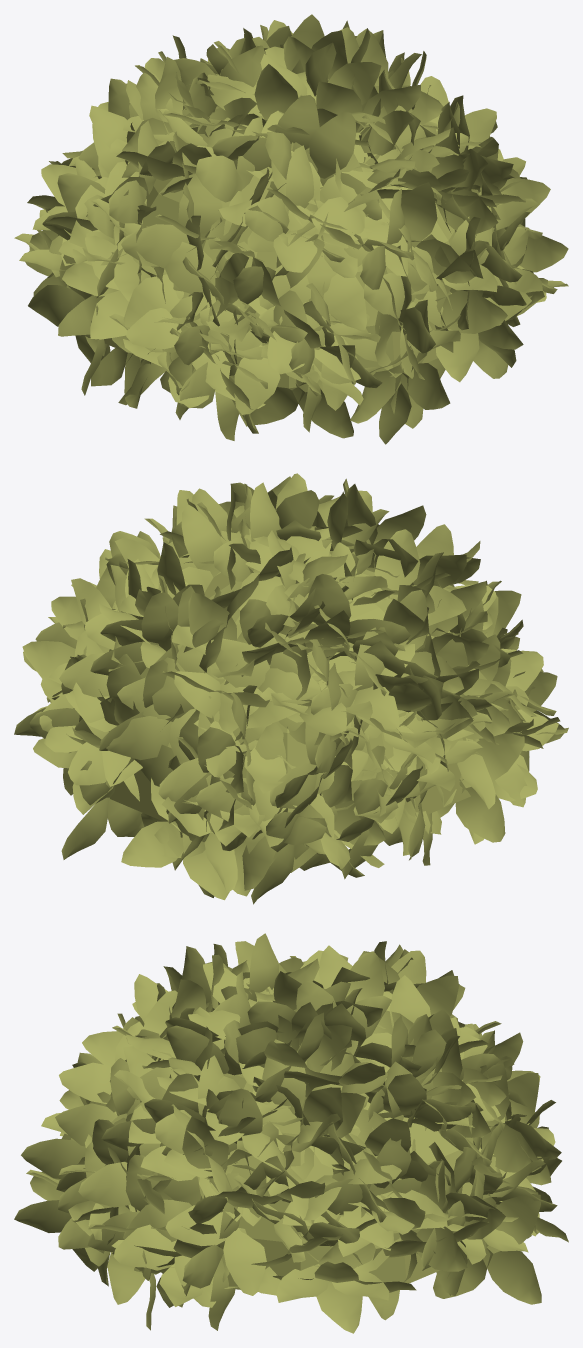
Rendered from bushLight.fbx.
3 renders of one model, top to bottom at view 1: azimuth 30°, elevation 25°; view 2: azimuth 150°, elevation 25°; view 3: azimuth 270°, elevation 25°, orthographic.
Parts seen in each view (by area): view 1: Bush, Bush|Leaf|Dupli|274, Bush|Leaf|Dupli|271, Bush|Leaf|Dupli|56, Bush|Leaf|Dupli|249, Bush|Leaf|Dupli|105, Bush|Leaf|Dupli|226, Bush|Leaf|Dupli|195, Bush|Leaf|Dupli|134, Bush|Leaf|Dupli|30, Bush|Leaf|Dupli|39, Bush|Leaf|Dupli|214 (+98 smaller); view 2: Bush, Bush|Leaf|Dupli|87, Bush|Leaf|Dupli|181, Bush|Leaf|Dupli|18, Bush|Leaf|Dupli|177, Bush|Leaf|Dupli|258, Bush|Leaf|Dupli|74, Bush|Leaf|Dupli|93, Bush|Leaf|Dupli|275, Bush|Leaf|Dupli|156, Bush|Leaf|Dupli|171, Bush|Leaf|Dupli|32 (+106 smaller); view 3: Bush, Bush|Leaf|Dupli|177, Bush|Leaf|Dupli|220, Bush|Leaf|Dupli|161, Bush|Leaf|Dupli|158, Bush|Leaf|Dupli|174, Bush|Leaf|Dupli|155, Bush|Leaf|Dupli|139, Bush|Leaf|Dupli|45, Bush|Leaf|Dupli|230, Bush|Leaf|Dupli|245, Bush|Leaf|Dupli|84 (+99 smaller).
Boxes of the visible parts, bbox=[...] form: Bush: bbox=[91, 107, 455, 388]; Bush|Leaf|Dupli|274: bbox=[259, 205, 384, 330]; Bush|Leaf|Dupli|271: bbox=[121, 174, 222, 291]; Bush|Leaf|Dupli|56: bbox=[255, 112, 381, 220]; Bush|Leaf|Dupli|249: bbox=[242, 331, 355, 438]; Bush|Leaf|Dupli|105: bbox=[379, 300, 450, 444]; Bush|Leaf|Dupli|226: bbox=[364, 233, 451, 378]; Bush|Leaf|Dupli|195: bbox=[245, 145, 314, 267]; Bush|Leaf|Dupli|134: bbox=[423, 234, 507, 378]; Bush|Leaf|Dupli|30: bbox=[199, 306, 308, 414]; Bush|Leaf|Dupli|39: bbox=[311, 167, 408, 276]; Bush|Leaf|Dupli|214: bbox=[401, 182, 474, 283]; Bush: bbox=[109, 569, 470, 830]; Bush|Leaf|Dupli|87: bbox=[121, 778, 229, 900]; Bush|Leaf|Dupli|181: bbox=[414, 732, 524, 842]; Bush|Leaf|Dupli|18: bbox=[106, 657, 194, 760]; Bush|Leaf|Dupli|177: bbox=[61, 760, 143, 859]; Bush|Leaf|Dupli|258: bbox=[211, 629, 317, 744]; Bush|Leaf|Dupli|74: bbox=[374, 529, 466, 625]; Bush|Leaf|Dupli|93: bbox=[90, 592, 178, 675]; Bush|Leaf|Dupli|275: bbox=[161, 504, 222, 598]; Bush|Leaf|Dupli|156: bbox=[298, 574, 410, 644]; Bush|Leaf|Dupli|171: bbox=[68, 682, 139, 801]; Bush|Leaf|Dupli|32: bbox=[177, 637, 320, 733]; Bush: bbox=[125, 1033, 498, 1289]; Bush|Leaf|Dupli|177: bbox=[433, 1194, 541, 1304]; Bush|Leaf|Dupli|220: bbox=[165, 1182, 266, 1295]; Bush|Leaf|Dupli|161: bbox=[182, 1186, 240, 1330]; Bush|Leaf|Dupli|158: bbox=[166, 1025, 278, 1075]; Bush|Leaf|Dupli|174: bbox=[113, 1224, 215, 1307]; Bush|Leaf|Dupli|155: bbox=[276, 1264, 389, 1302]; Bush|Leaf|Dupli|139: bbox=[123, 1142, 241, 1282]; Bush|Leaf|Dupli|45: bbox=[404, 1160, 467, 1281]; Bush|Leaf|Dupli|230: bbox=[480, 1063, 541, 1172]; Bush|Leaf|Dupli|245: bbox=[258, 1237, 401, 1333]; Bush|Leaf|Dupli|84: bbox=[315, 1138, 421, 1214].
Size of the model in its own units: 2.53 by 2.62 by 1.69.
